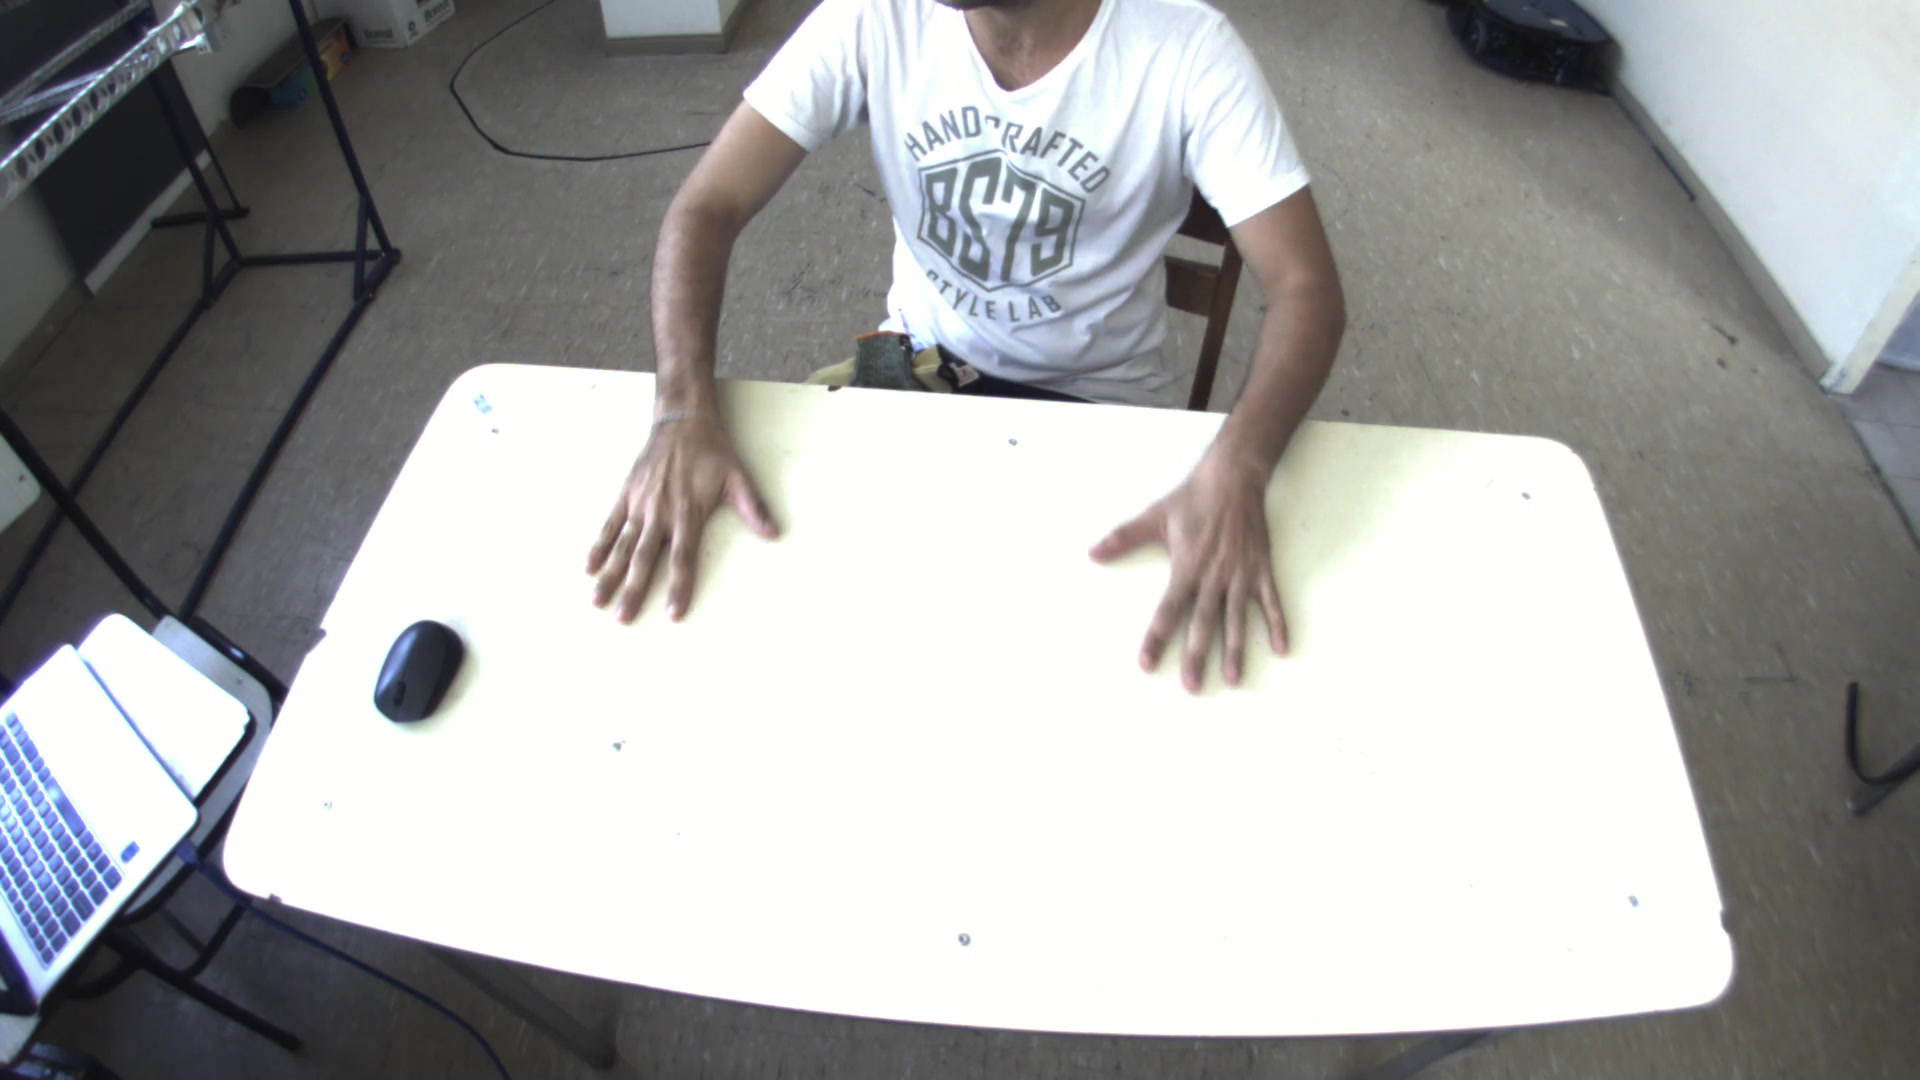hand: (1083, 442, 1309, 703), (567, 385, 791, 632)
